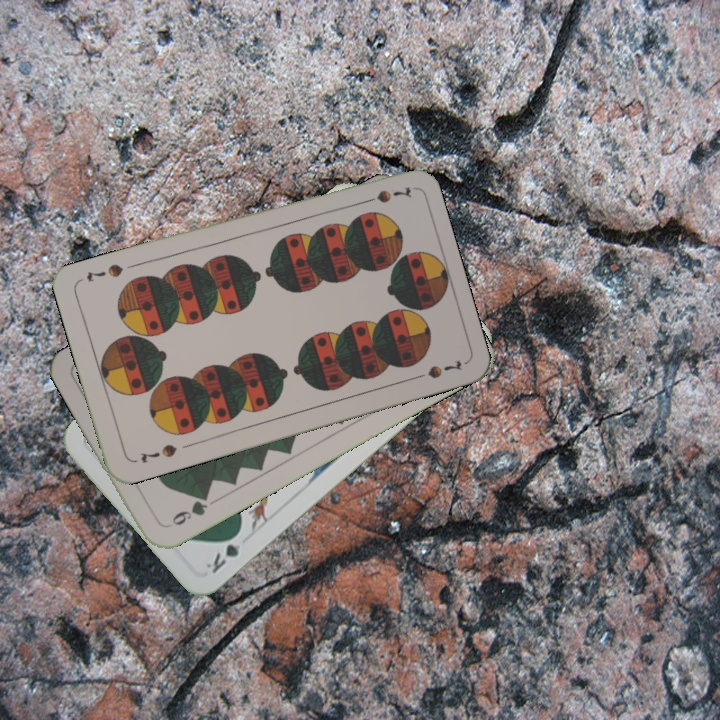G9: (162, 489, 212, 531)
GK: (202, 526, 244, 577)
S7: (355, 182, 414, 207), (136, 440, 179, 466)
